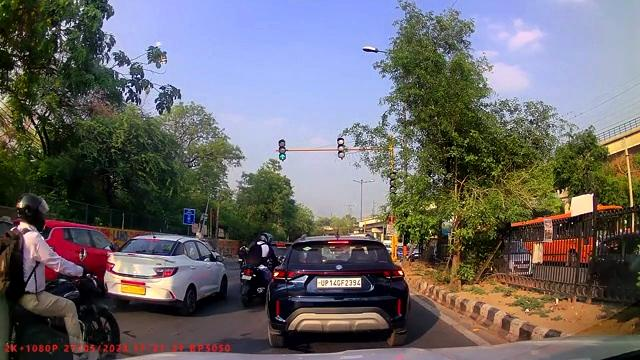motorcycle_with_helmet: (0, 190, 122, 357), (239, 230, 279, 307)
